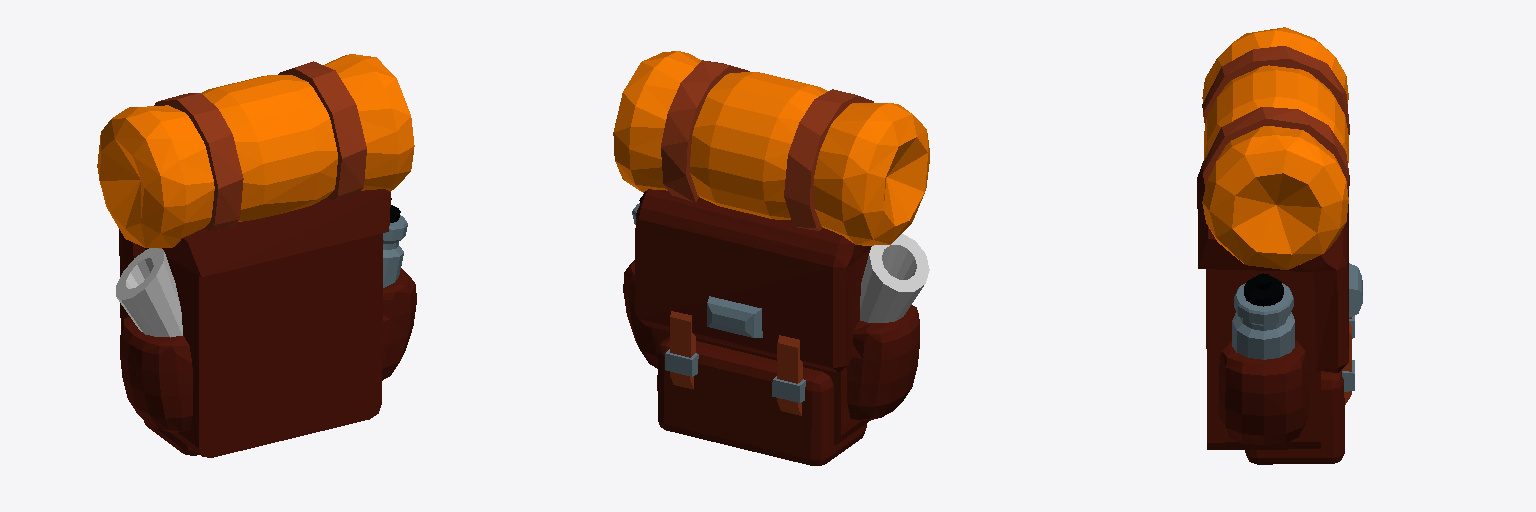
File: backpack.obj
3 renders of one model, left to right at view 1: azimuth 30°, elevation 25°; view 2: azimuth 150°, elevation 25°; view 3: azimuth 270°, elevation 25°, orthographic.
Visible parts, largest first — view 1: backpack_Cube.234; view 2: backpack_Cube.234; view 3: backpack_Cube.234.
Boxes of the visible parts, <box> form: backpack_Cube.234: <box>97,54,416,457</box>; backpack_Cube.234: <box>613,51,929,465</box>; backpack_Cube.234: <box>1197,27,1362,464</box>.
Size of the model in its own units: 0.786 by 0.89 by 0.3847.